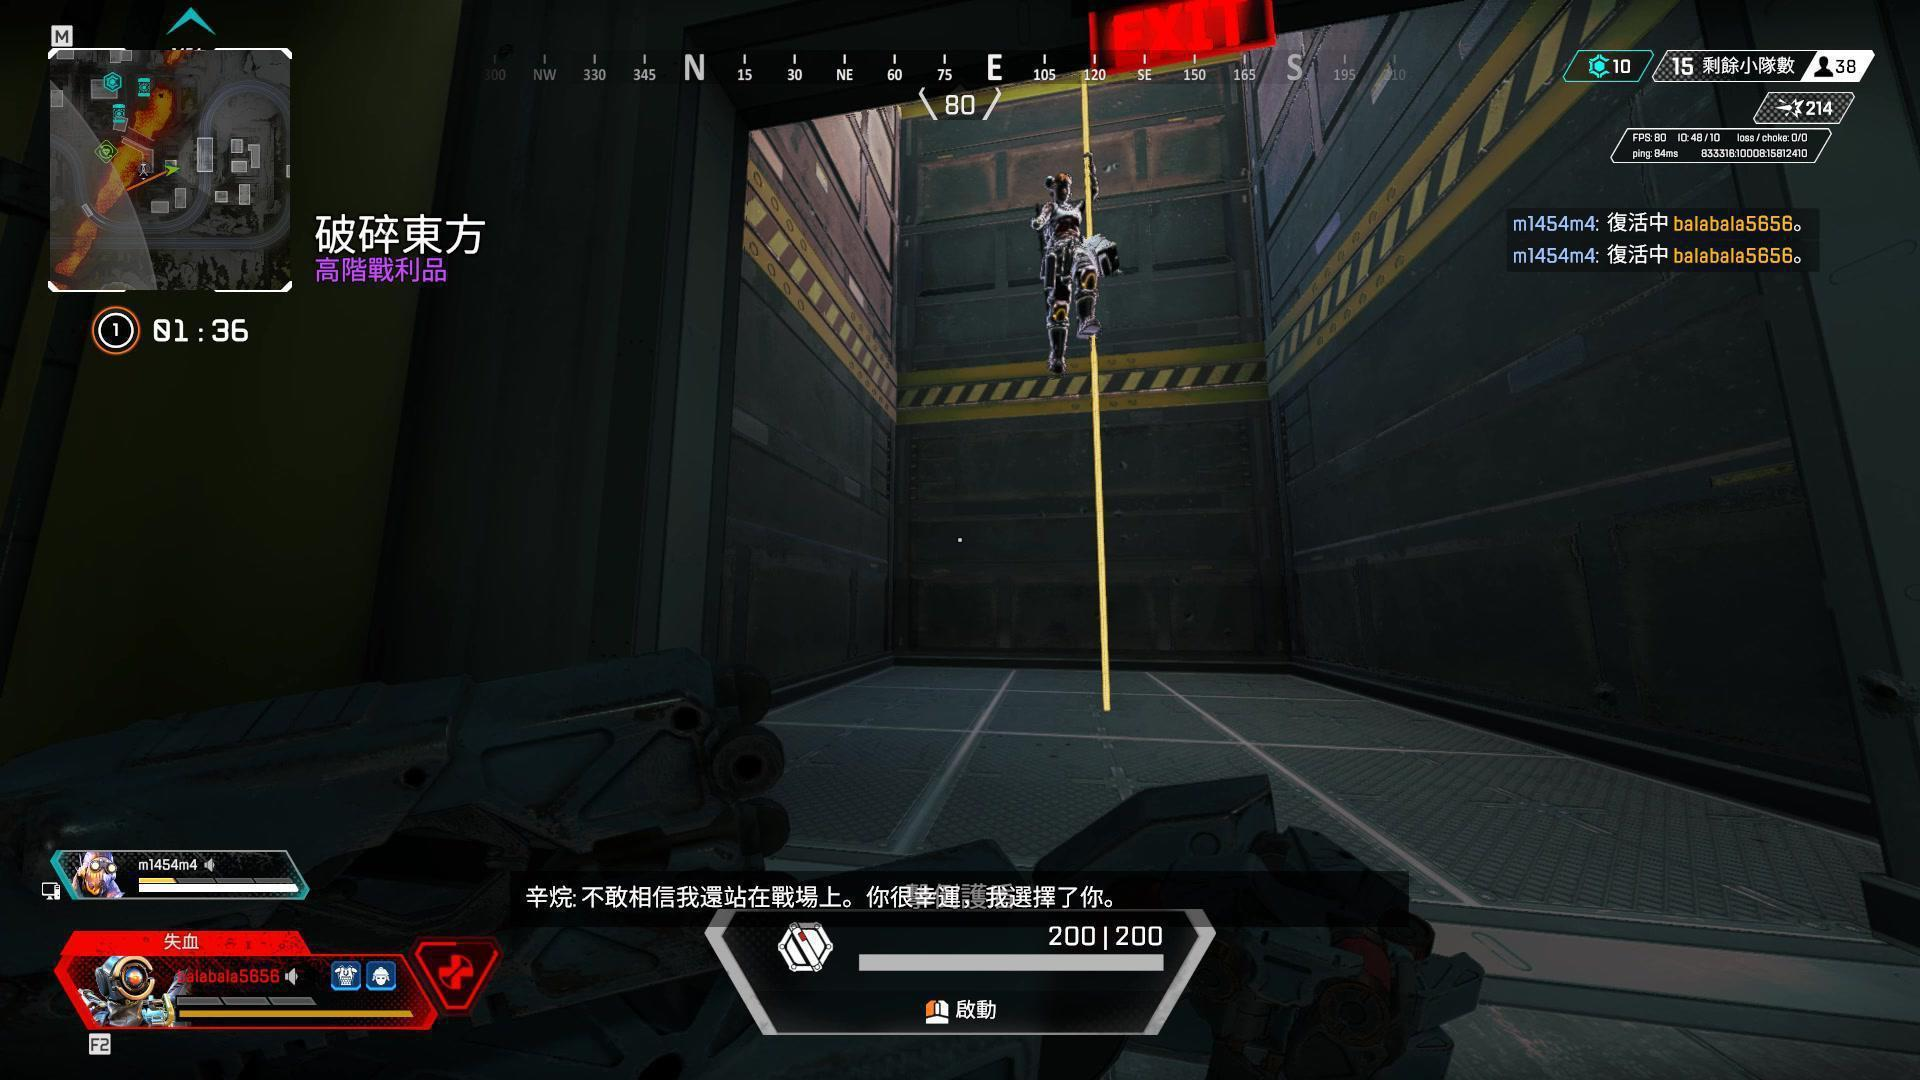avatar: (1031, 173, 1100, 376)
